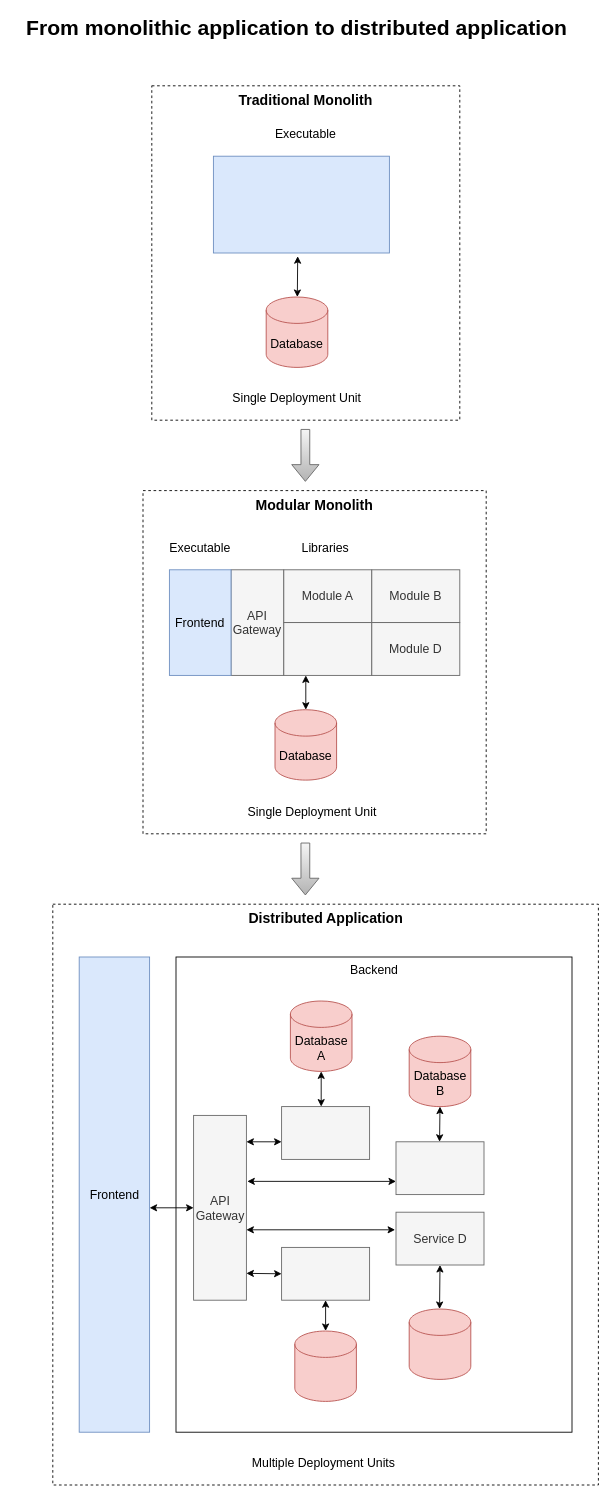
The diagram is 613 pixels wide and 1500 high, and some of its shapes have lost their labels. The centre of each missing label's shape, as x and y in pixels:
Application: pixel 301 204
Database C: pixel 325 1365
Database D: pixel 439 1343
Module C: pixel 327 648
Service A: pixel 325 1132
Service B: pixel 439 1168
Service C: pixel 325 1273
